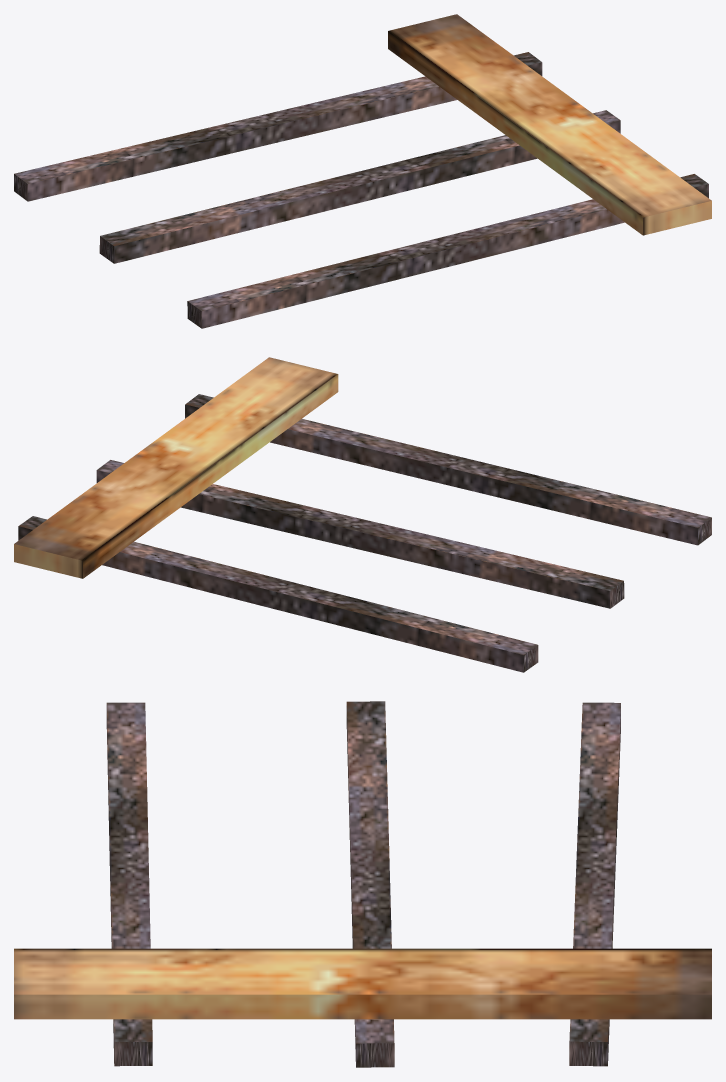
Rendered from wood_1.glb.
3 views of the same model, one above another, from view 1: azimuth 30°, elevation 25°; view 2: azimuth 150°, elevation 25°; view 3: azimuth 270°, elevation 25° (orthographic). The views are drawn at different scales.
Parts seen in each view (by area): view 1: 05.001; view 2: 05.001; view 3: 05.001.
Part boxes in pixels (x1,y1,x2,y2): 05.001: [14, 14, 711, 328]; 05.001: [14, 357, 711, 672]; 05.001: [14, 701, 711, 1067].
Size of the model in its own units: 212 by 14.62 by 183.
Materials: 2 (2 with a texture image).
